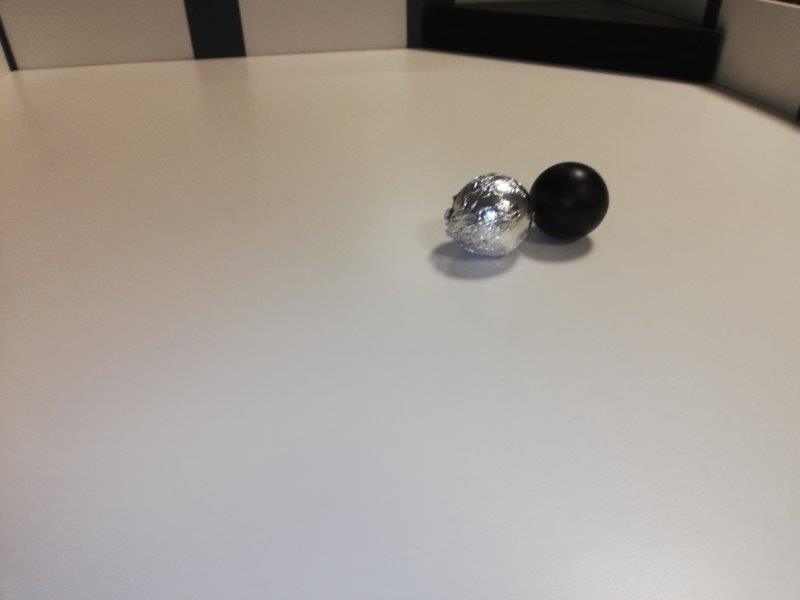bianca: (447, 172, 530, 261)
nera: (532, 161, 609, 238)
